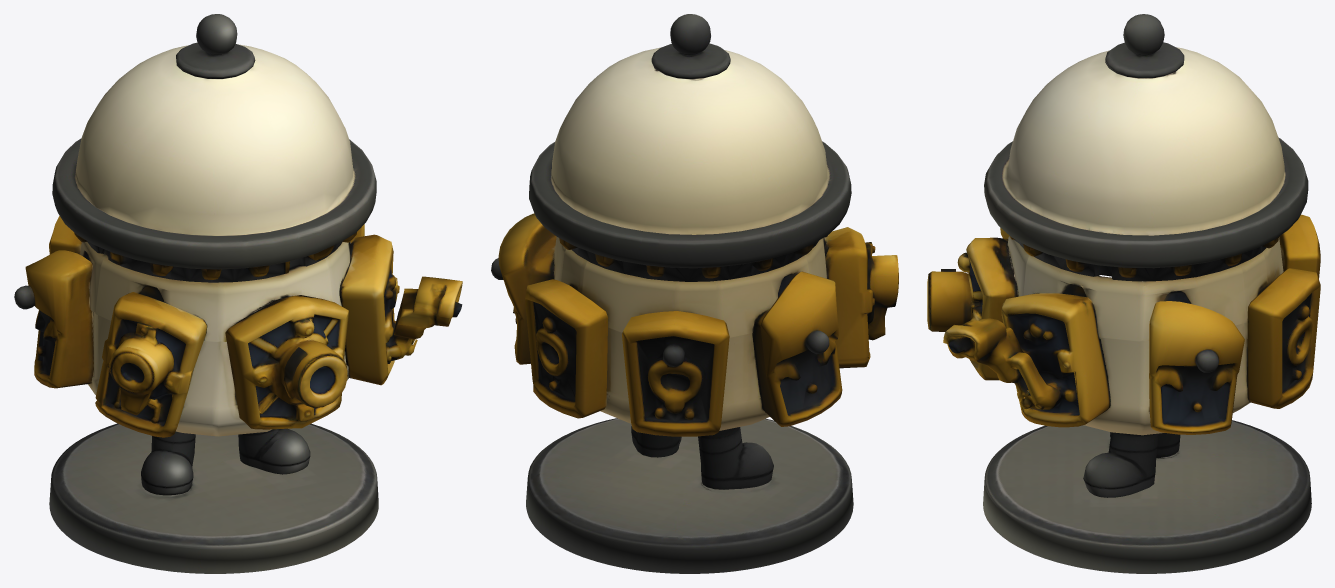
Rendered from brunei-rook.glb.
3 renders of one model, left to right at view 1: azimuth 30°, elevation 25°; view 2: azimuth 150°, elevation 25°; view 3: azimuth 270°, elevation 25°, orthographic.
Parts seen in each view (by area): view 1: ff4e2991_3135_4c59_89aa_b20ab5b30aaa; view 2: ff4e2991_3135_4c59_89aa_b20ab5b30aaa; view 3: ff4e2991_3135_4c59_89aa_b20ab5b30aaa.
Boxes of the visible parts, left/top/right/bottom form: ff4e2991_3135_4c59_89aa_b20ab5b30aaa: left=14, top=14, right=462, bottom=573; ff4e2991_3135_4c59_89aa_b20ab5b30aaa: left=491, top=14, right=898, bottom=573; ff4e2991_3135_4c59_89aa_b20ab5b30aaa: left=927, top=14, right=1320, bottom=573.
Size of the model in its own units: 0.7202 by 0.9995 by 0.73.
Materials: 1 (1 with a texture image).
